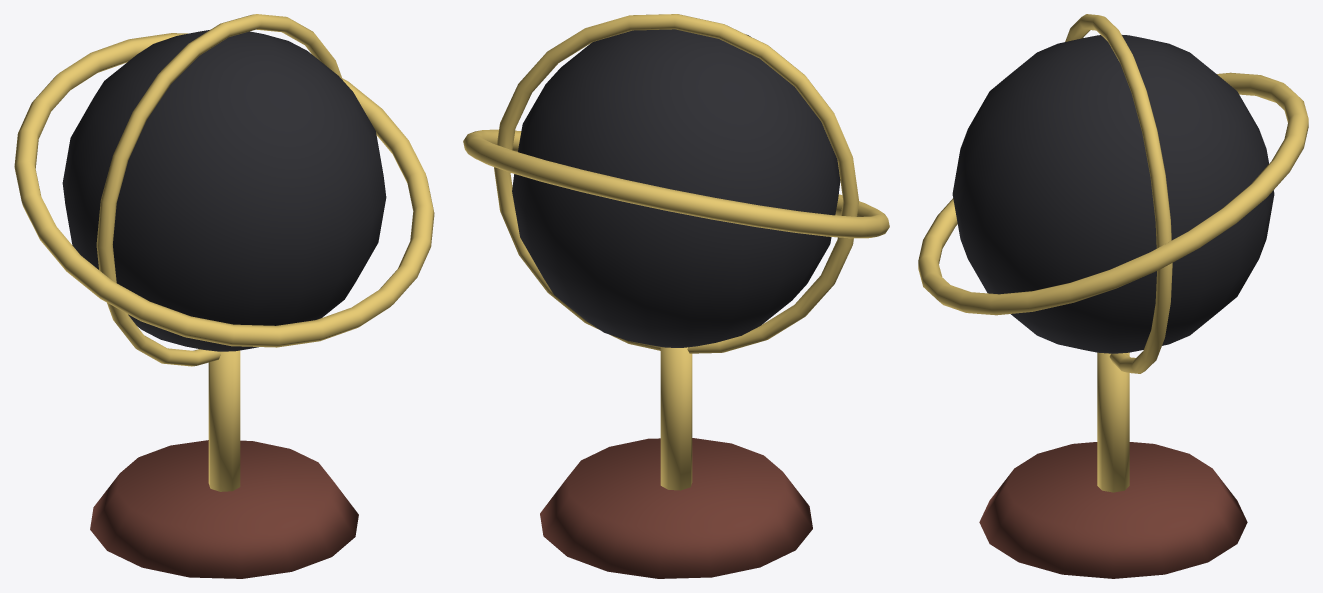
The model's file is globe_star_map.glb.
3 views of the same model, side by side, from view 1: azimuth 30°, elevation 25°; view 2: azimuth 150°, elevation 25°; view 3: azimuth 270°, elevation 25° (orthographic). The views are drawn at different scales.
Parts seen in each view (by area): view 1: GD_globe_star_map__m2, GD_globe_star_map__m1, GD_globe_star_map__m0; view 2: GD_globe_star_map__m2, GD_globe_star_map__m1, GD_globe_star_map__m0; view 3: GD_globe_star_map__m2, GD_globe_star_map__m0, GD_globe_star_map__m1.
Boxes of the visible parts, x1,y1,x2,y2 form: GD_globe_star_map__m2: [62, 30, 386, 351]; GD_globe_star_map__m1: [14, 14, 434, 491]; GD_globe_star_map__m0: [90, 440, 358, 578]; GD_globe_star_map__m2: [512, 29, 840, 347]; GD_globe_star_map__m1: [463, 14, 889, 490]; GD_globe_star_map__m0: [540, 438, 812, 578]; GD_globe_star_map__m2: [952, 35, 1274, 353]; GD_globe_star_map__m0: [979, 442, 1247, 578]; GD_globe_star_map__m1: [918, 14, 1308, 492].
Size of the model in its own units: 0.316 by 0.406 by 0.2911.
